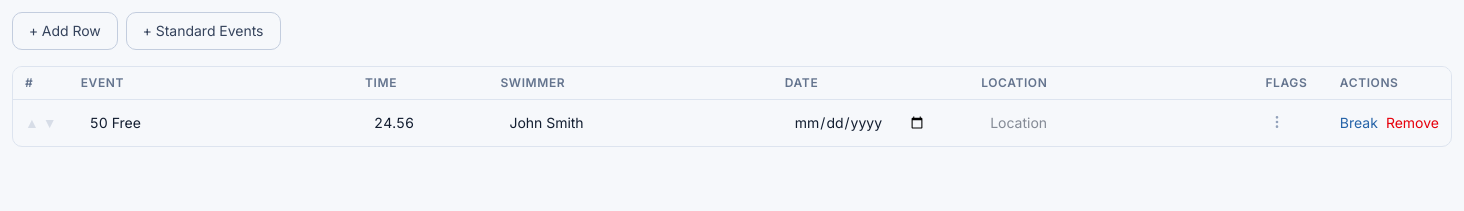
Test: RecordTable › adds an editable row on '+ Add Row'
The image size is (1464, 211).
Expected: the number of fields with placeholder "Event name" is 1, left=81, top=108, right=341, bottom=138
Step 1. Click the button "+ Add Row" → [65, 31], box left=12, top=12, right=118, bottom=50
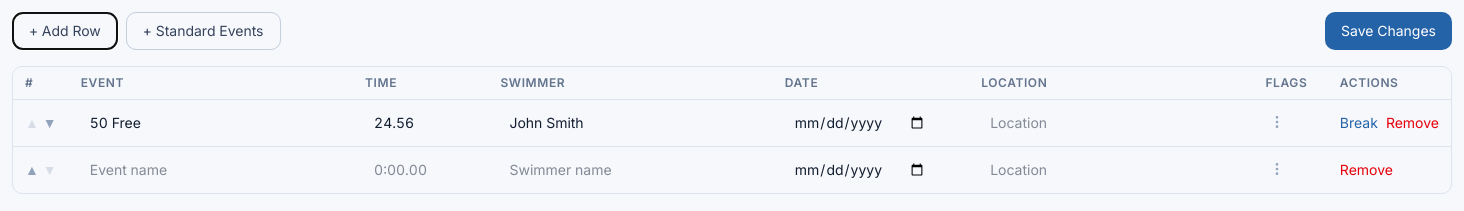
Expected: the number of fields with placeholder "Event name" is 2, left=81, top=108, right=341, bottom=138; left=81, top=155, right=341, bottom=185
